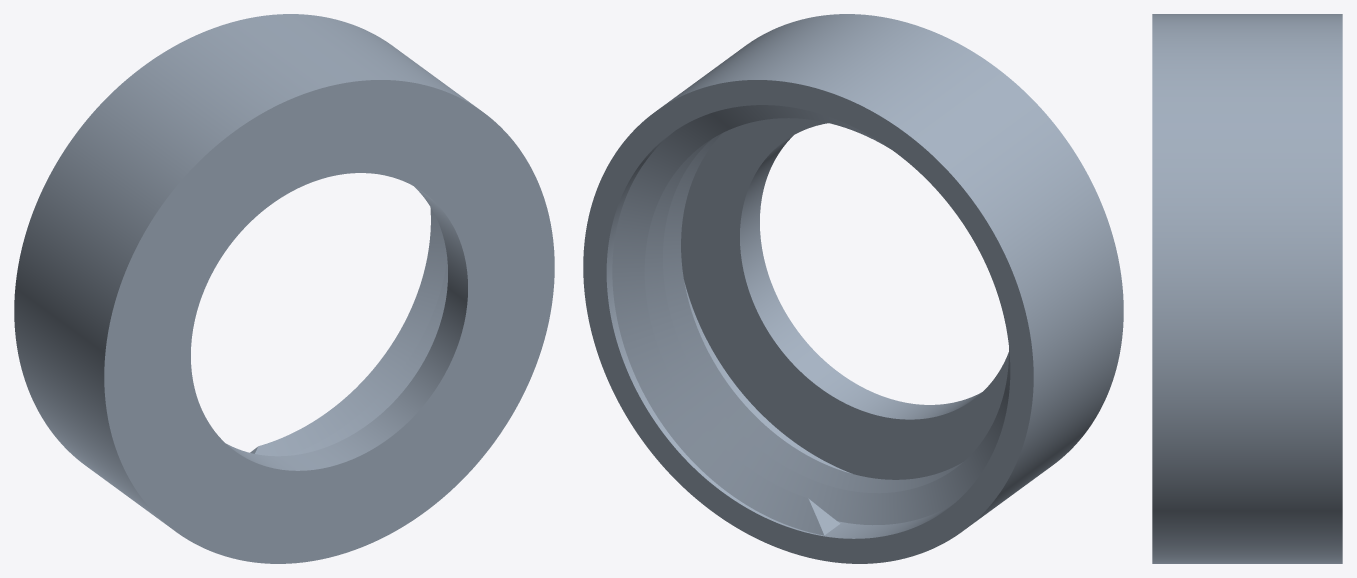
The model's file is cap.obj.
The picture shows the model from 3 angles, left to right: view 1: azimuth 30°, elevation 25°; view 2: azimuth 150°, elevation 25°; view 3: azimuth 270°, elevation 25°; orthographic projection. The views are drawn at different scales.
Parts seen in each view (by area): view 1: 1; view 2: 1; view 3: 1.
Part boxes in pixels (<box>): 1: <box>14,14,554,563</box>; 1: <box>583,14,1123,563</box>; 1: <box>1152,14,1342,563</box>.
Bounding box in the file's own units: 26 × 26 × 9.
